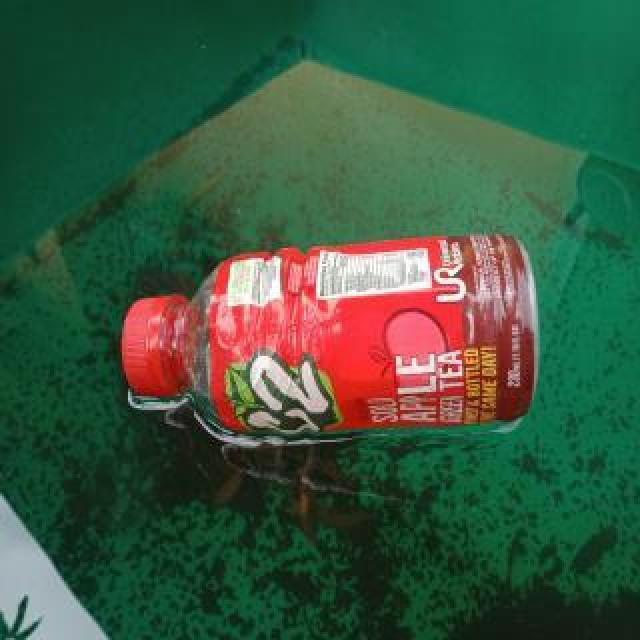bottle: (121, 225, 543, 445)
